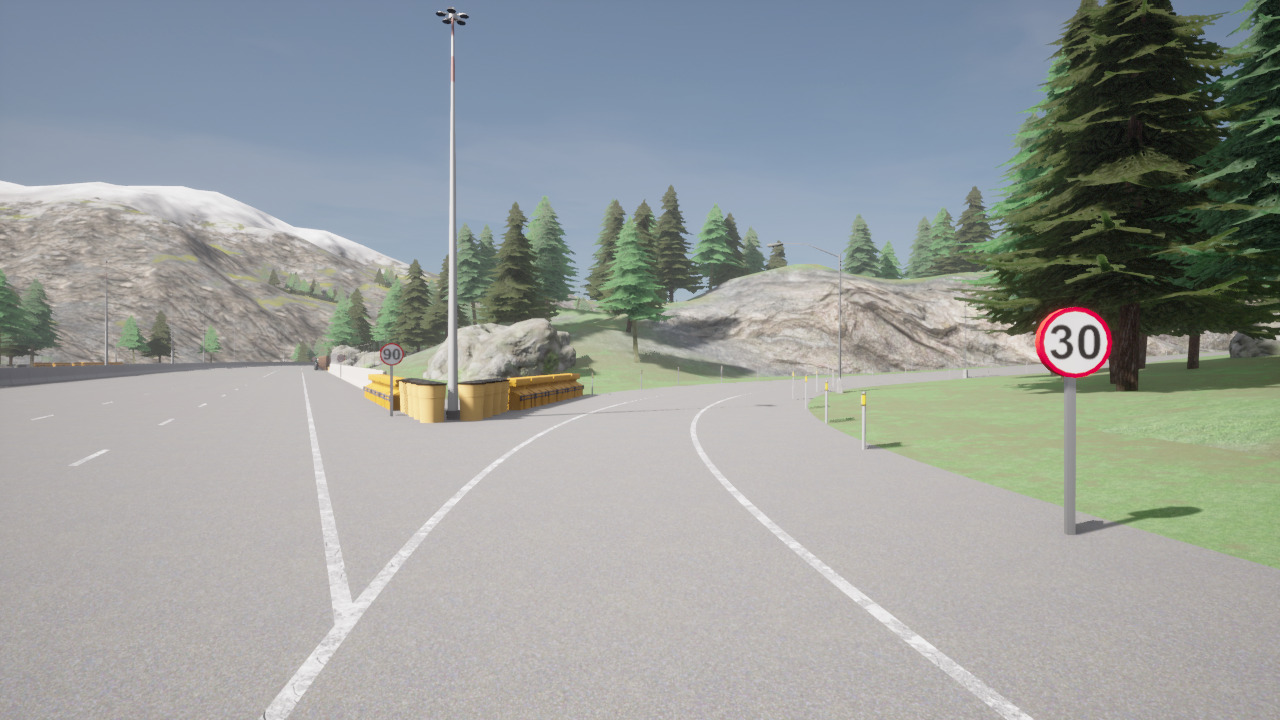sl30: (1033, 305, 1116, 381)
sl90: (379, 342, 405, 366)
